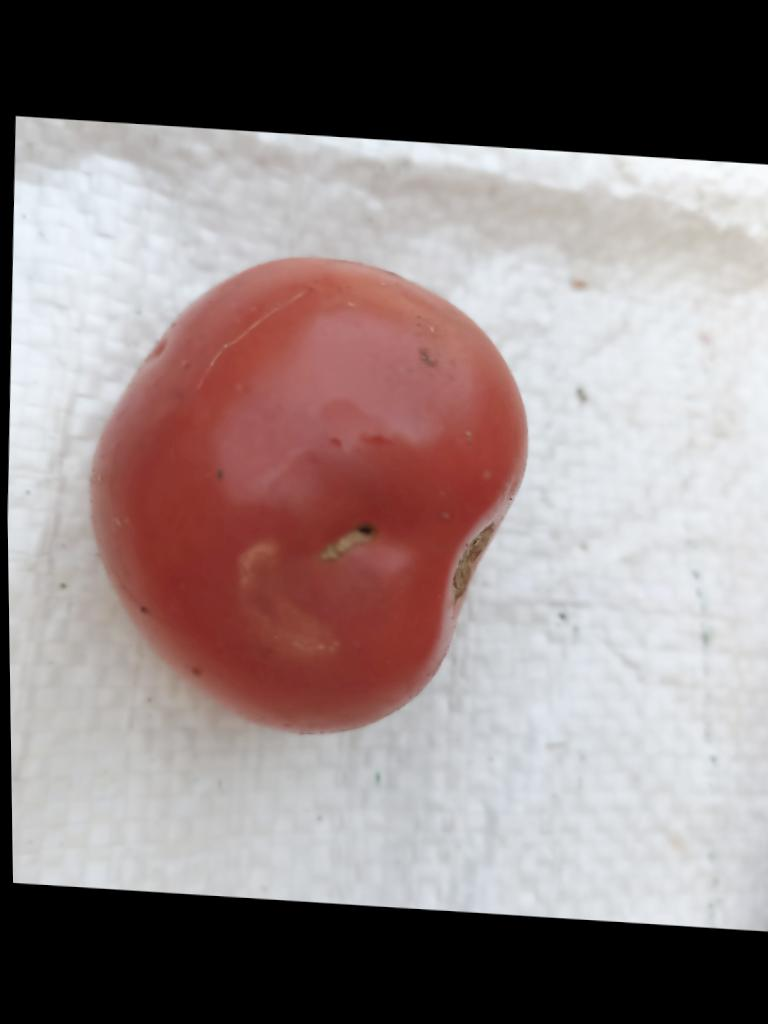surface_damage: (203, 292, 304, 378), (320, 524, 374, 559), (196, 378, 203, 388)
tomato: (91, 257, 526, 732)
